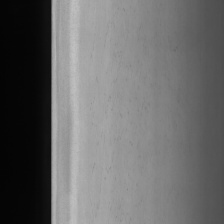silk_spot: (83, 68, 126, 206)
